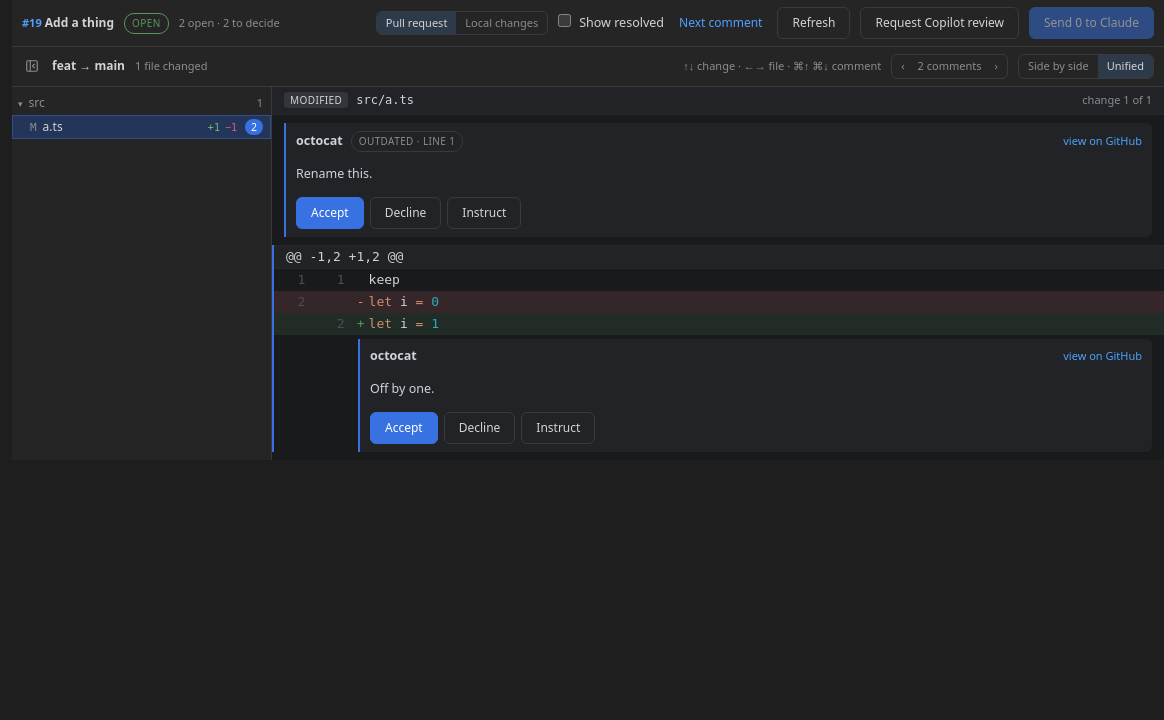
Test: ReviewView › sends each decision to the agent in one prompt, then marks them sent
Expected: the text "Off by one." is shown, 370,380 -> 434,396
Expected: the button "Send 0 to Claude" is disabled, 1029,7 -> 1154,39
Note: The outdated thread heads the file, so its buttons come first.
Click the button "Decline" below "Rename this." at (406, 213), box 370,197 -> 441,229
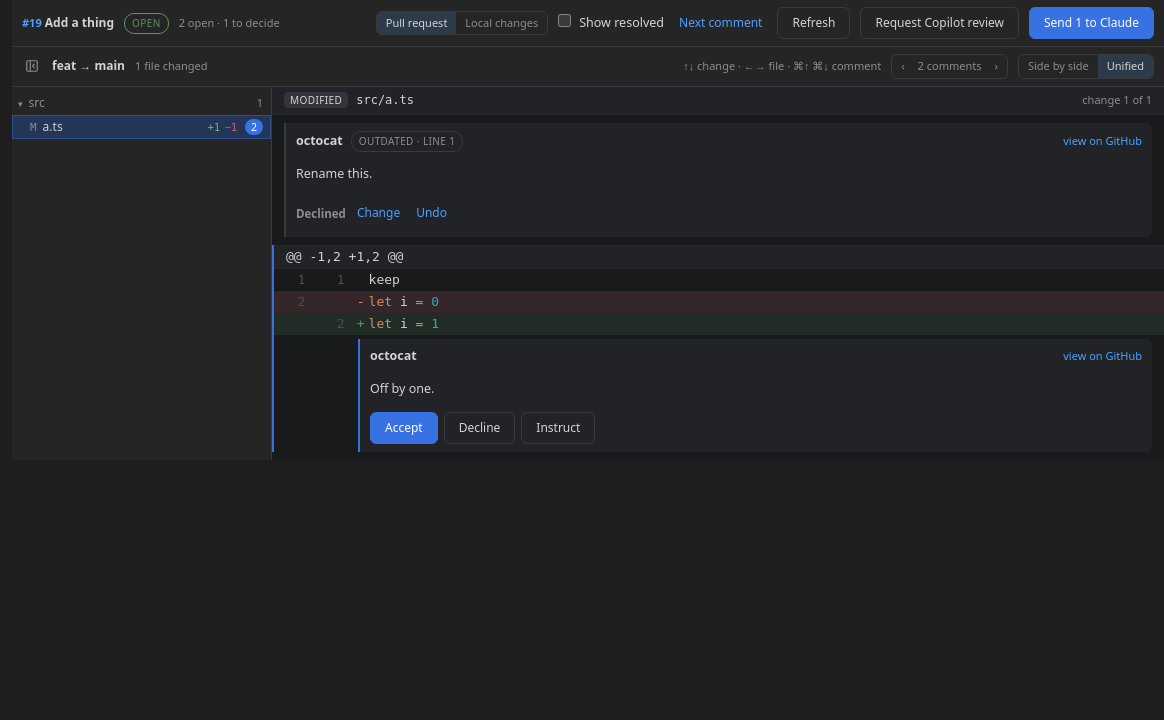
Click the button "Instruct" at (558, 428), box 521,412 -> 595,444
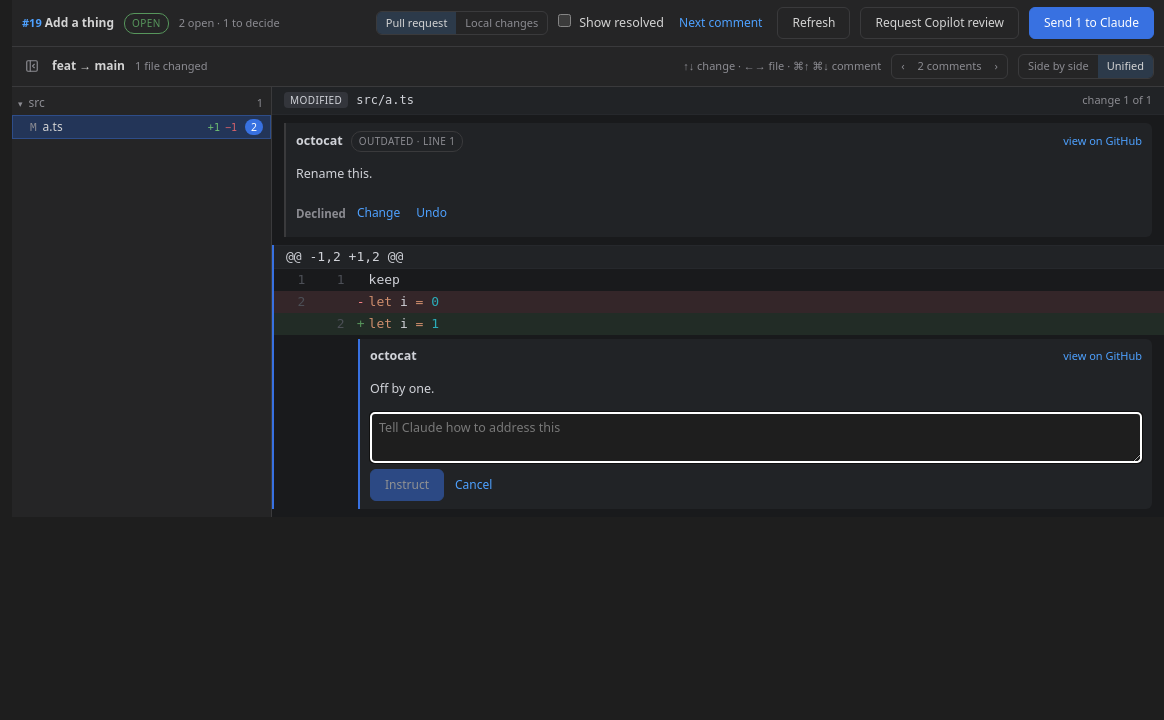
Type "Start the loop at 1 instead" into the text box with placeholder "Tell Claude how to address this" at (756, 438), box 370,412 -> 1142,463
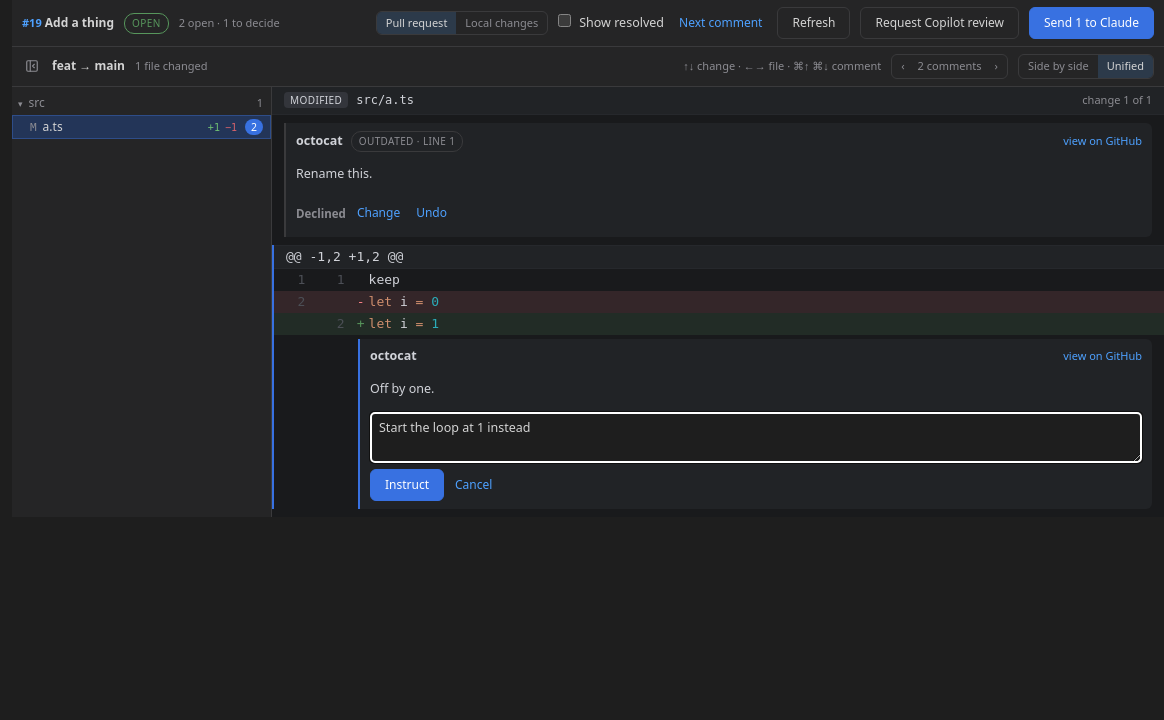
Click the button "Instruct" at (407, 485), box 370,469 -> 444,501
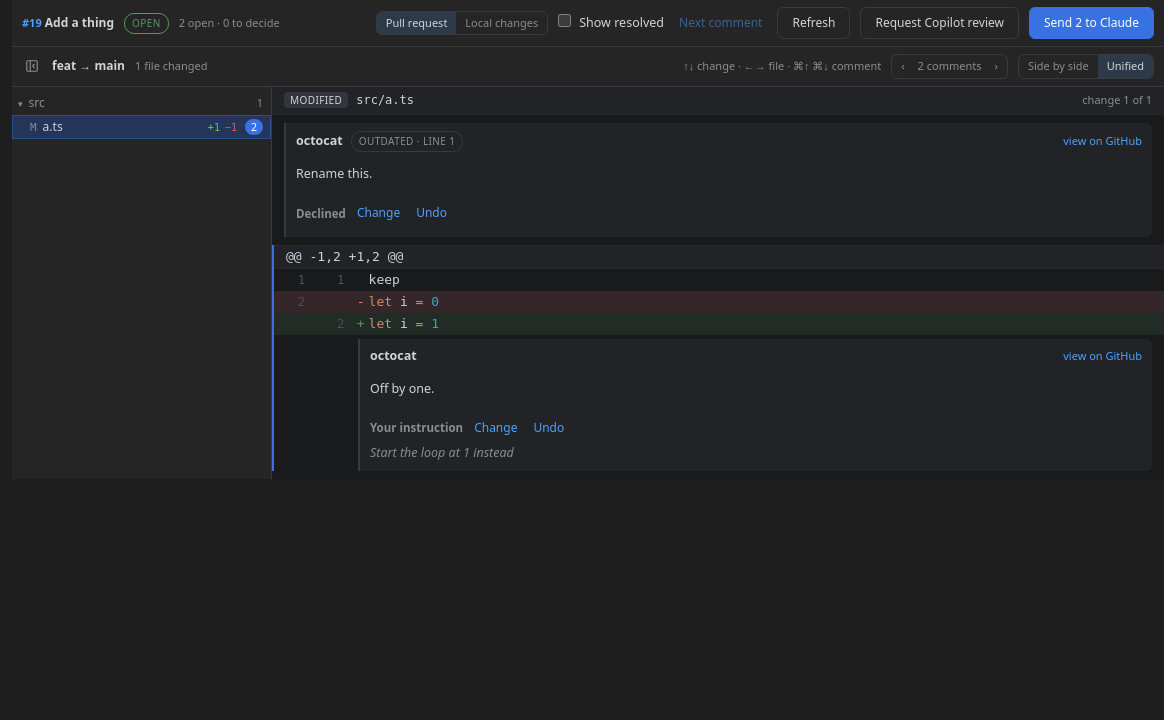
Now the text "2 open · 0 to decide" is shown, box 179,15 -> 280,31
Click the button "Send 2 to Claude" at (1092, 23), box 1029,7 -> 1154,39
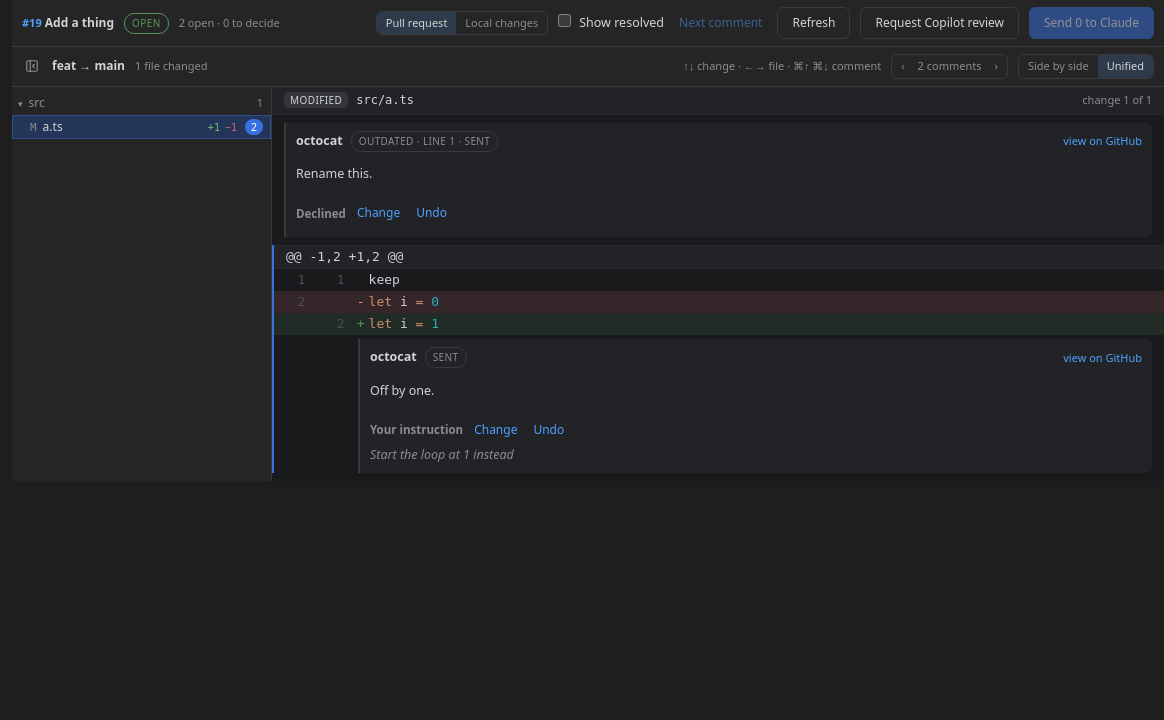
Now the button "Send 0 to Claude" is disabled, box 1029,7 -> 1154,39
Now the text "sent" is shown once, box 425,347 -> 466,368
Now the text "outdated · line 1 · sent" is shown, box 351,130 -> 498,152
